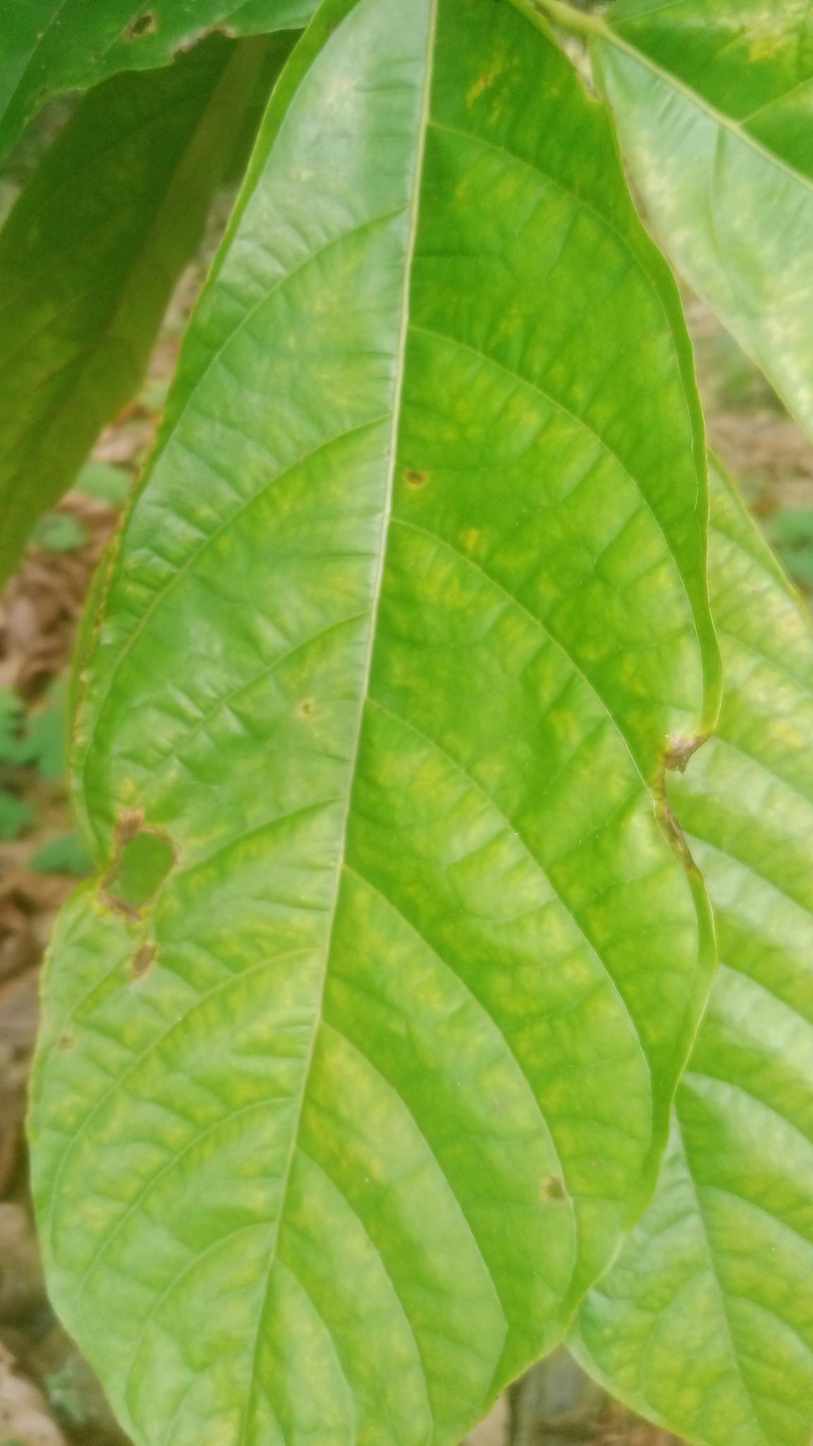Fosforo: (15, 0, 738, 1446)
